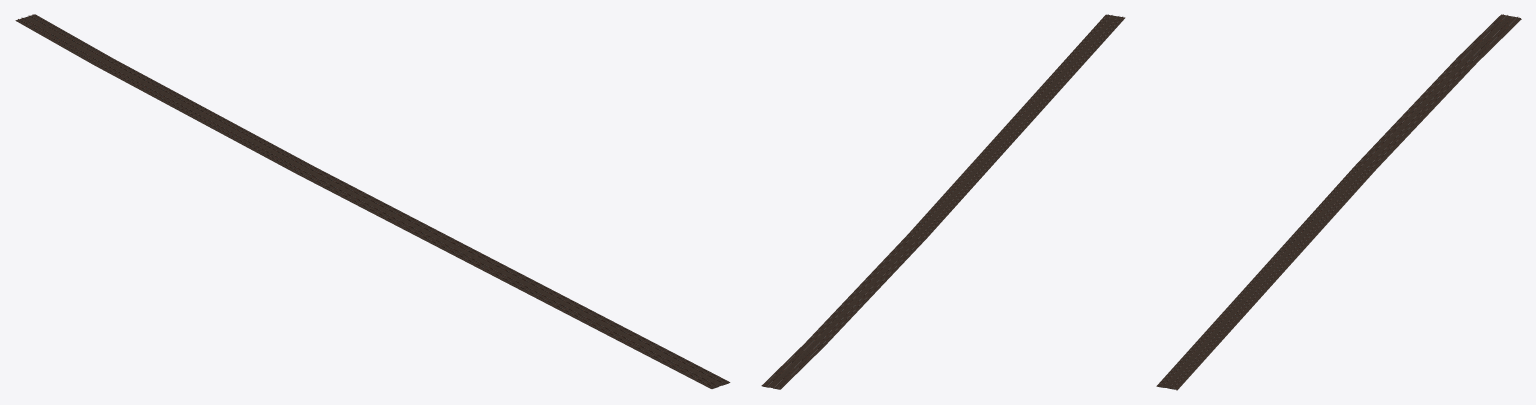
The model's file is kobe_0044.glb.
The picture shows the model from 3 angles, left to right: view 1: azimuth 30°, elevation 25°; view 2: azimuth 150°, elevation 25°; view 3: azimuth 330°, elevation 25°; orthographic projection. The views are drawn at different scales.
Parts seen in each view (by area): view 1: ballast_top, oxidised_rail_profiles; view 2: ballast_top, oxidised_rail_profiles, polished_rail_heads; view 3: ballast_top, oxidised_rail_profiles, ballast_left, polished_rail_heads.
Boxes of the visible parts, x1,y1,x2,y2 form: ballast_top: (15,14,730,388); oxidised_rail_profiles: (18,14,728,387); ballast_top: (761,14,1125,389); oxidised_rail_profiles: (764,14,1122,388); polished_rail_heads: (768,15,1120,387); ballast_top: (1156,14,1520,389); oxidised_rail_profiles: (1159,14,1517,388); ballast_left: (1176,18,1521,390); polished_rail_heads: (1161,15,1516,387).
Size of the model in its own units: 57.49 by 0.819 by 328.
4 materials, 3 textured.
